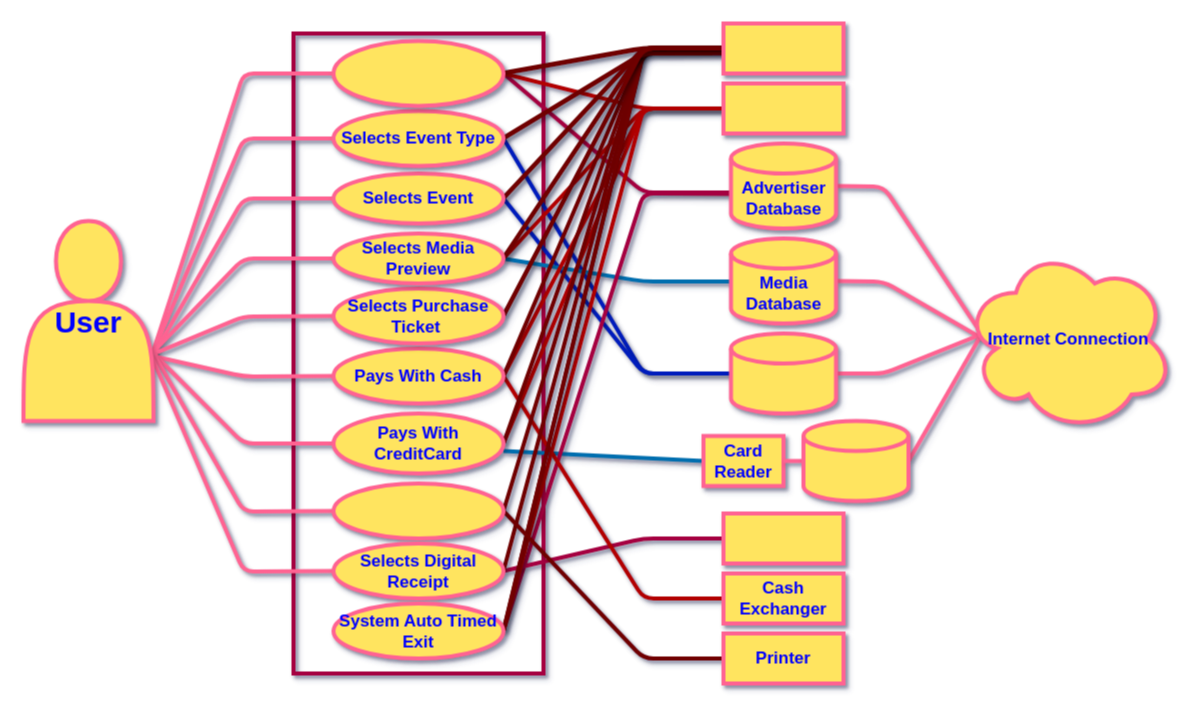
Some shapes in this 1204 by 715 pixel diagram are drawn without their labels. Each missing label, with the centre of its shape:
"Bluetooth" belongs at point (784, 539).
"CreditCard Database" belongs at point (856, 462).
"Event Database" belongs at point (784, 374).
"Initially Interfaces Kiosk" belongs at point (419, 74).
"LCD Screen" belongs at point (784, 49).
"Selects Paper Receipt" belongs at point (419, 512).
"Speakers" belongs at point (784, 109).
